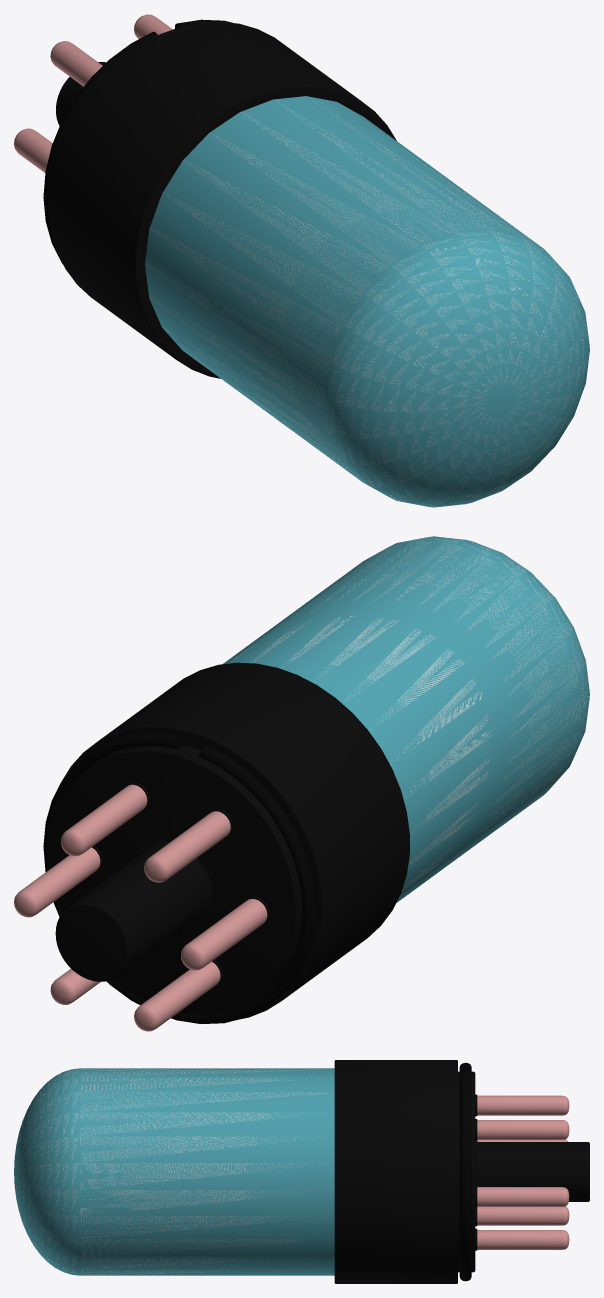
The picture shows the model from 3 angles, top to bottom: view 1: azimuth 30°, elevation 25°; view 2: azimuth 150°, elevation 25°; view 3: azimuth 270°, elevation 25°; orthographic projection. The views are drawn at different scales.
Visible parts, largest first — view 1: tube2_LOD0, tube2glass_LOD0; view 2: tube2_LOD0, tube2glass_LOD0; view 3: tube2_LOD0, tube2glass_LOD0.
Part boxes in pixels (x1,y1,x2,y2): tube2_LOD0: (14,14,589,507); tube2glass_LOD0: (145,100,588,506); tube2_LOD0: (14,536,589,1031); tube2glass_LOD0: (230,537,589,901); tube2_LOD0: (14,1060,589,1283); tube2glass_LOD0: (15,1068,326,1274).
Size of what is drawn, in the model's own units: 1.52 by 1.52 by 3.92.
